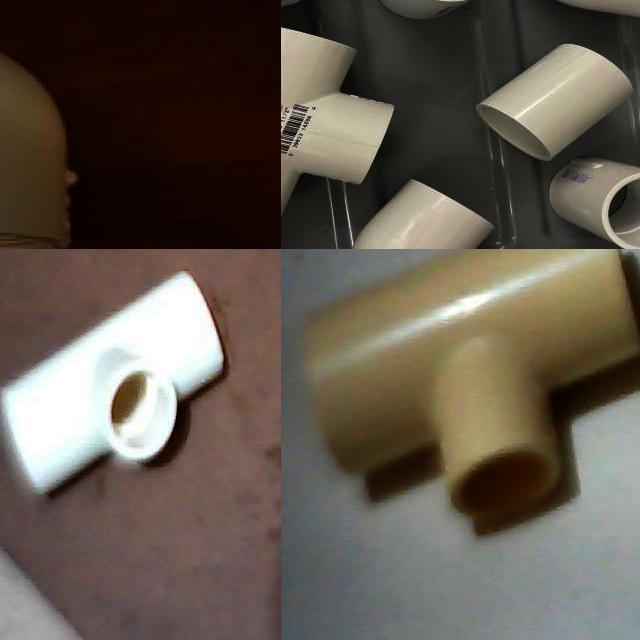L Joint: (0, 52, 79, 249), (352, 182, 496, 249)
T Joint: (302, 249, 640, 537), (0, 272, 227, 500), (281, 28, 396, 219)
